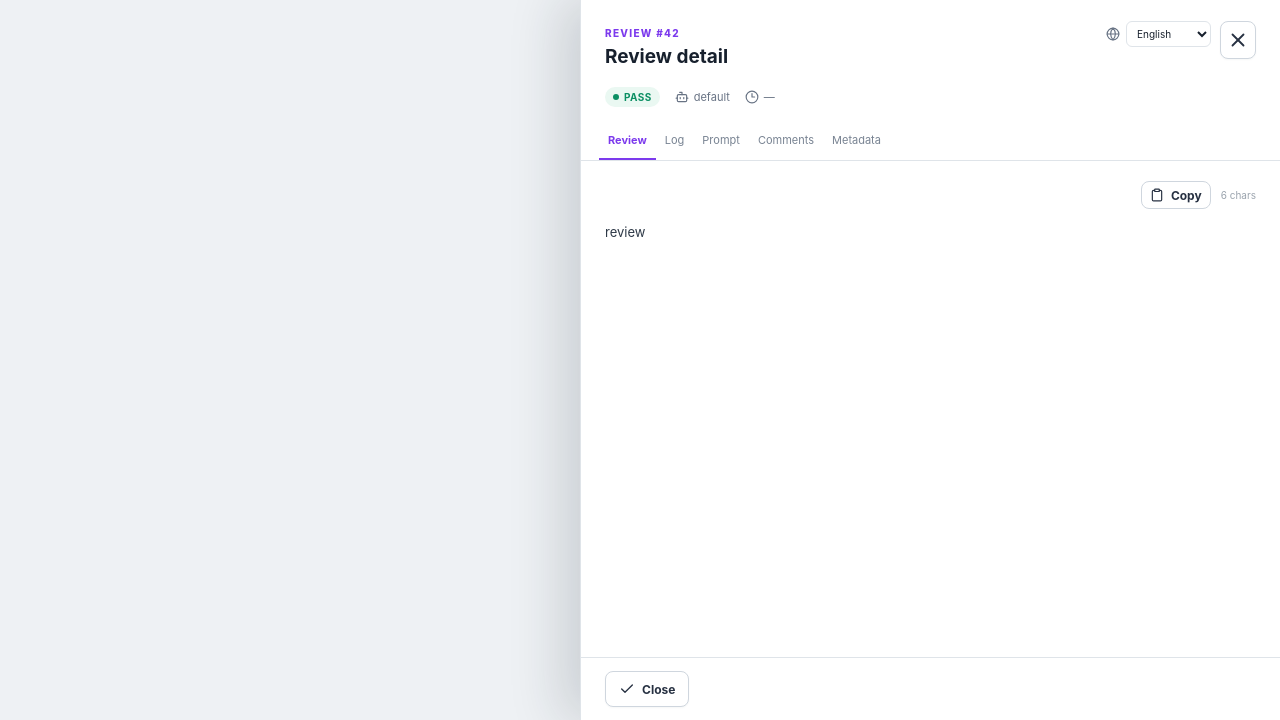
Test case: ReviewDetail lazy Prompt/Log ownership › does not reload Log when status is unchanged
Click the button "Log" at {"x": 675, "y": 141}, box [656,122,693,160]
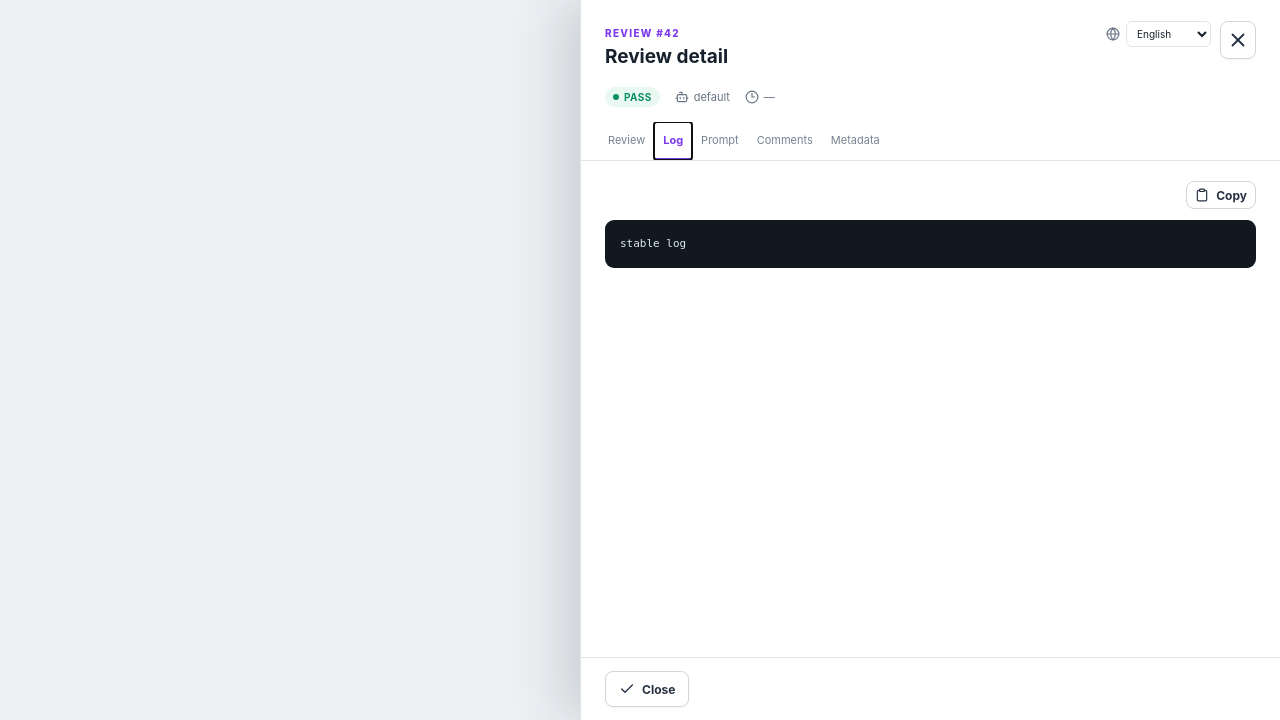
Result: the text "stable log" is shown at [605,220,1256,268]
